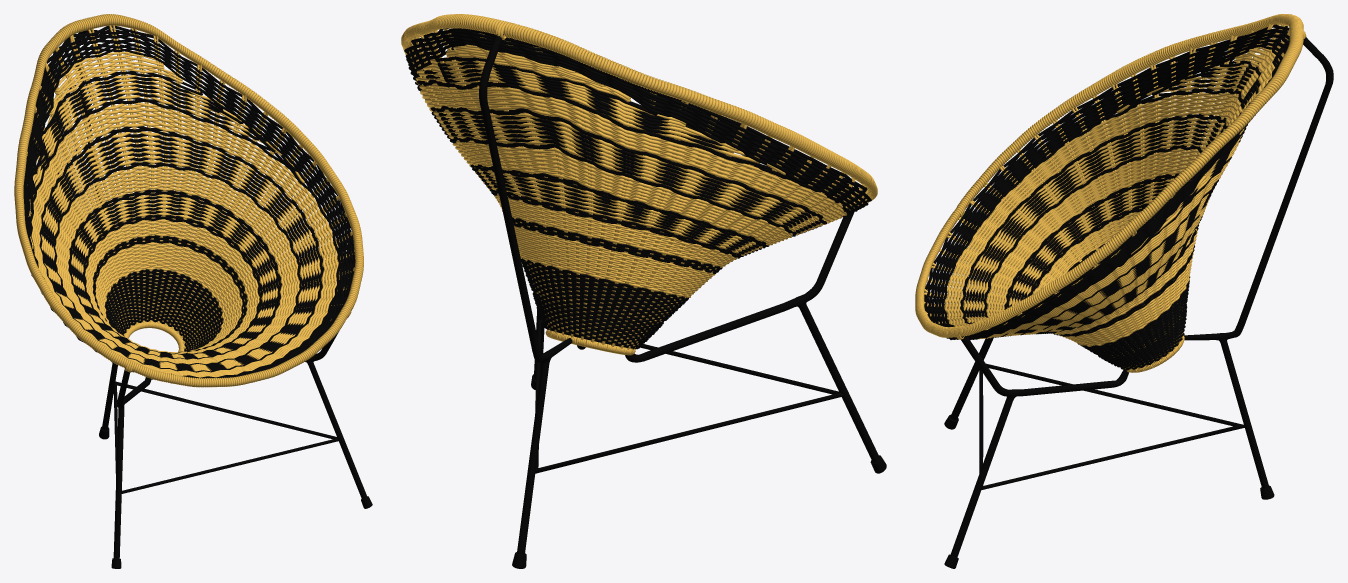
3 views of the same model, side by side, from view 1: azimuth 30°, elevation 25°; view 2: azimuth 150°, elevation 25°; view 3: azimuth 270°, elevation 25° (orthographic). The views are drawn at different scales.
Visible parts, largest first — view 1: Object029; view 2: Object029; view 3: Object029.
Boxes of the visible parts, x1,y1,x2,y2 form: Object029: [14, 14, 372, 568]; Object029: [401, 14, 886, 568]; Object029: [915, 14, 1333, 568].
Bounding box in the file's own units: 0.75 × 0.93 × 0.75.
3 materials, 3 textured.
